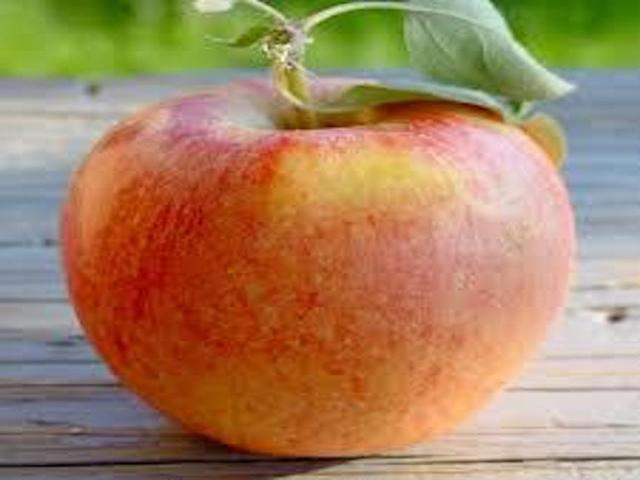apple: (56, 3, 581, 462)
